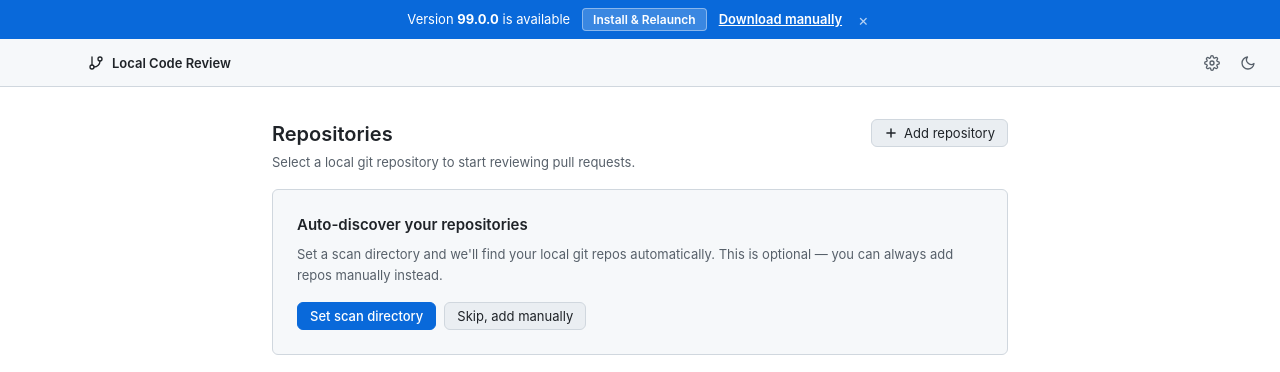
Test: update banner › returns to an installable banner when the authorization dialog is declined
Step 1. Click the button "Install & Relaunch" → click(644, 20), box [582,8,707,31]
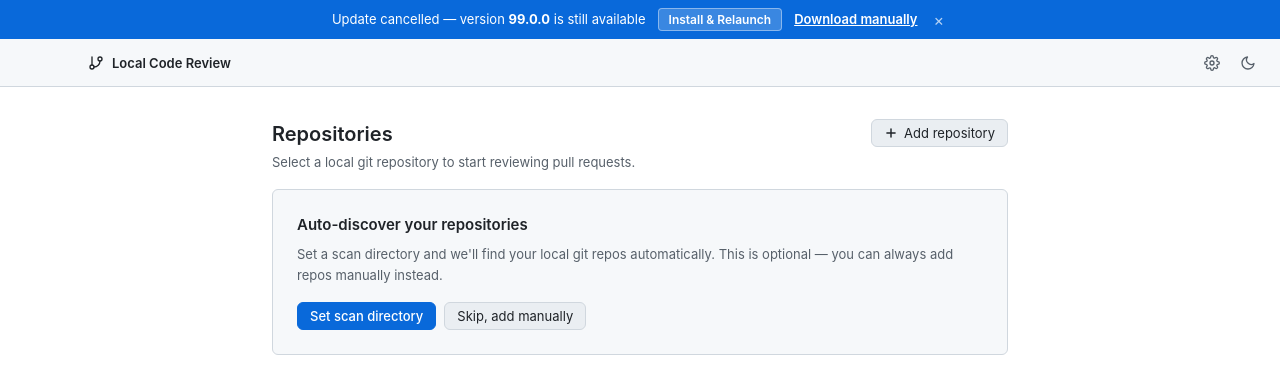
Expected: the button "Install & Relaunch" is shown, [658,8,782,31]
Result: the text "Update cancelled — version 99.0.0 is still available" is shown at [332,10,646,29]
